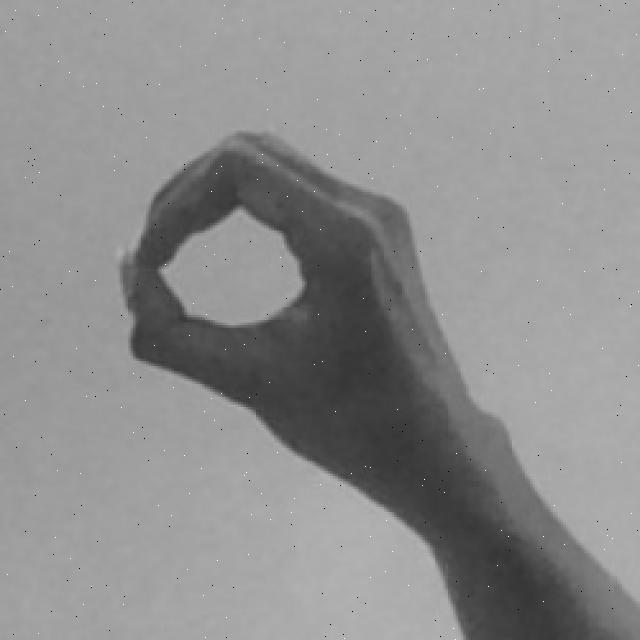O: (116, 120, 637, 640)
